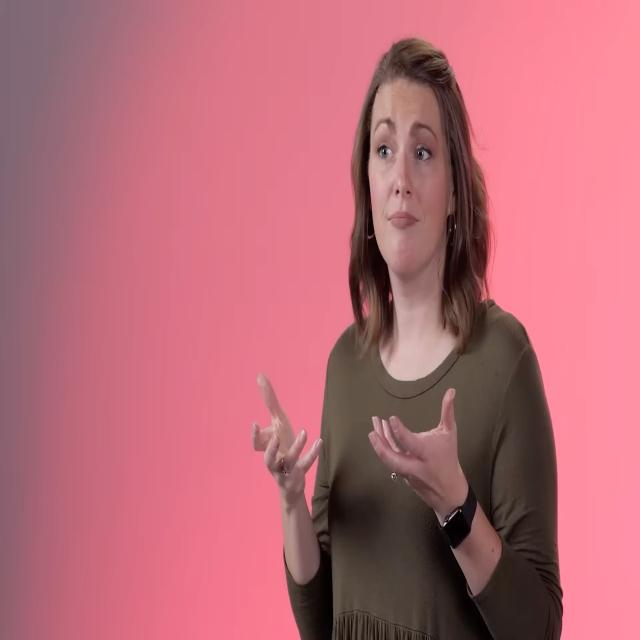want: (229, 356, 483, 514)
